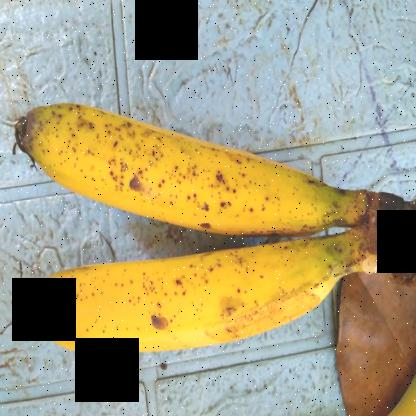ripe: (36, 94, 341, 233), (29, 247, 342, 378)
